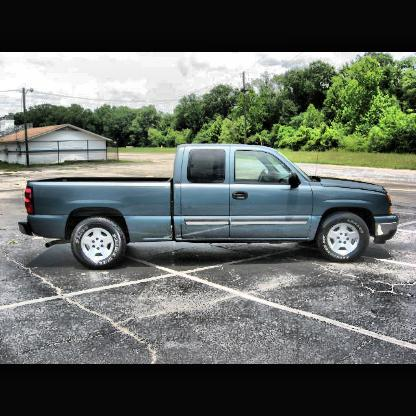Chevrolet Silverado 1500 Extended Cab 2012: (18, 144, 401, 271)
